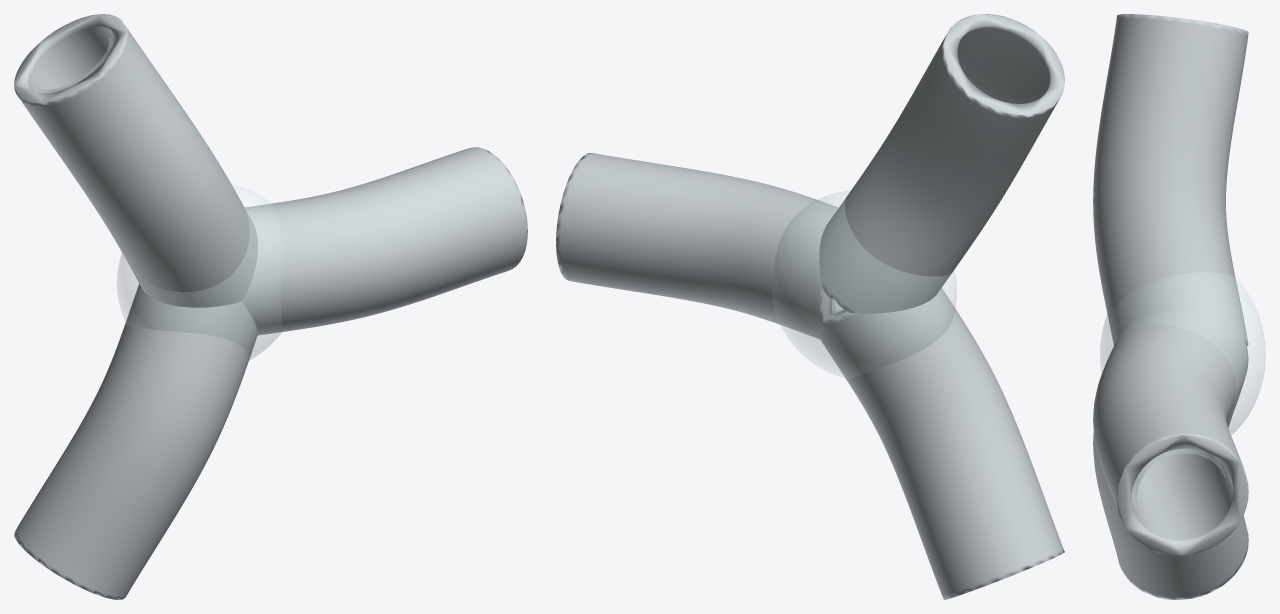
The picture shows the model from 3 angles, left to right: view 1: azimuth 30°, elevation 25°; view 2: azimuth 150°, elevation 25°; view 3: azimuth 270°, elevation 25°; orthographic projection. The views are drawn at different scales.
Visible parts, largest first — view 1: junction-wall-2, junction-wall-1, junction-wall-0, junction-core; view 2: junction-wall-1, junction-wall-2, junction-wall-0, junction-core; view 3: junction-wall-1, junction-wall-0, junction-core, junction-wall-2, junction-fluid-0.
Boxes of the visible parts, x1,y1,x2,y2 form: junction-wall-2: [14, 283, 257, 599]; junction-wall-1: [14, 14, 257, 307]; junction-wall-0: [242, 147, 527, 335]; junction-core: [117, 185, 282, 360]; junction-wall-1: [819, 14, 1064, 313]; junction-wall-2: [819, 288, 1064, 599]; junction-wall-0: [556, 153, 838, 339]; junction-core: [772, 191, 956, 378]; junction-wall-1: [1093, 14, 1248, 345]; junction-wall-0: [1093, 311, 1248, 555]; junction-core: [1100, 272, 1265, 434]; junction-wall-2: [1093, 363, 1248, 599]; junction-fluid-0: [1132, 449, 1225, 505].
Size of the model in its own units: 1.7 by 1.94 by 0.5201.
